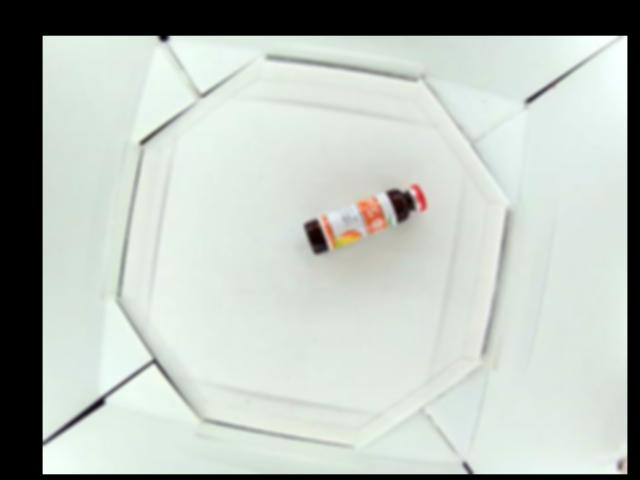Medicine: (302, 181, 428, 255)
